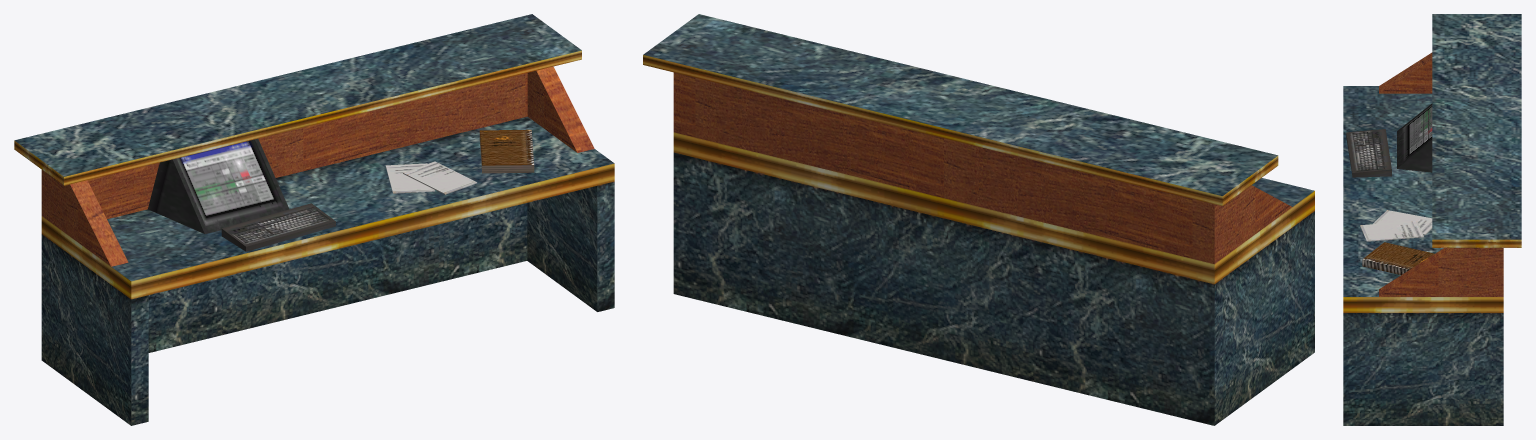
Rendered from concierge.fbx.
3 renders of one model, left to right at view 1: azimuth 30°, elevation 25°; view 2: azimuth 150°, elevation 25°; view 3: azimuth 270°, elevation 25°, orthographic. The views are drawn at different scales.
Parts seen in each view (by area): view 1: mesh_0; view 2: mesh_0; view 3: mesh_0.
Boxes of the visible parts, <box> form: mesh_0: <box>14,14,614,425</box>; mesh_0: <box>643,14,1314,425</box>; mesh_0: <box>1343,14,1521,425</box>.
Size of the model in its own units: 300 by 120 by 100.
Materials: 1 (1 with a texture image).
